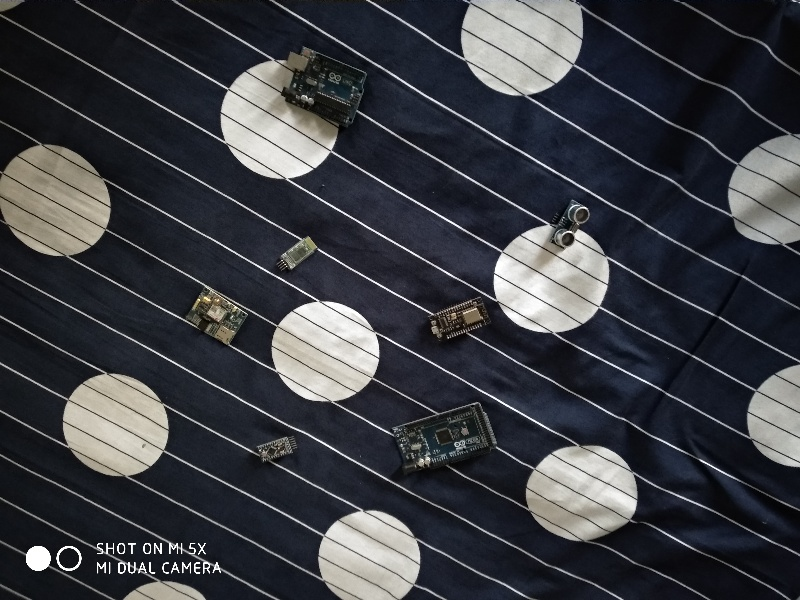Arduino Mega 2560: (387, 400, 502, 479)
Arduino Pro Mini: (253, 434, 301, 465)
Arduino UNO: (279, 36, 369, 129)
HC-05: (277, 233, 316, 271)
NodeMCU: (426, 293, 494, 342)
SIM800: (186, 284, 248, 348)
Sonar Sensor: (547, 194, 593, 257)
